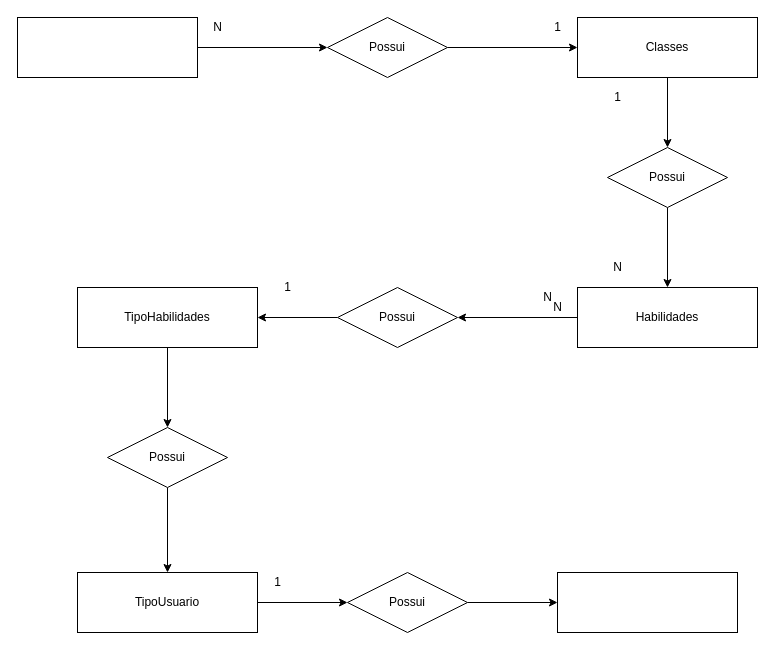
Some shapes in this 775 by 650 pixel diagram are drawn without their labels. The box of each missing label's shape, as (x1, y1, x2, y2) in pixels:
Personagens: (16, 16, 198, 78)
Usuario: (556, 572, 738, 632)
